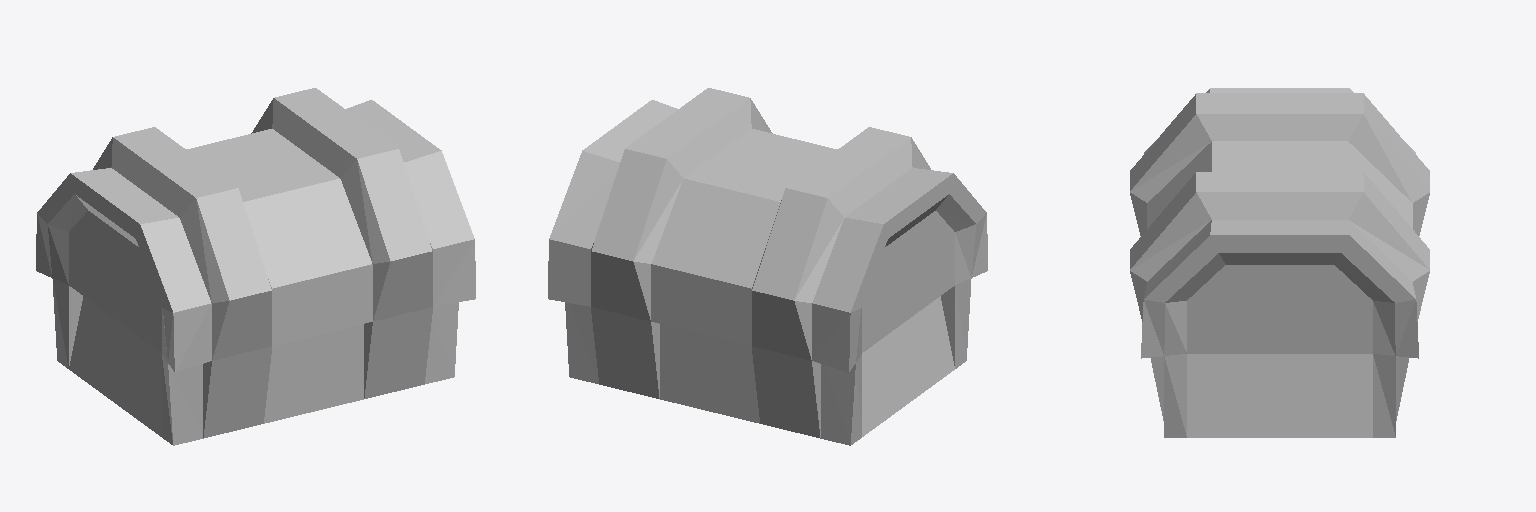
The model's file is trunk_small_C.obj.
3 renders of one model, left to right at view 1: azimuth 30°, elevation 25°; view 2: azimuth 150°, elevation 25°; view 3: azimuth 270°, elevation 25°, orthographic.
Parts seen in each view (by area): view 1: trunk_small_C; view 2: trunk_small_C; view 3: trunk_small_C.
Part boxes in pixels (bbox=[...]): trunk_small_C: bbox=[36, 88, 475, 445]; trunk_small_C: bbox=[548, 88, 987, 445]; trunk_small_C: bbox=[1130, 88, 1429, 437].
Size of the model in its own units: 0.6754 by 0.4843 by 0.5834.